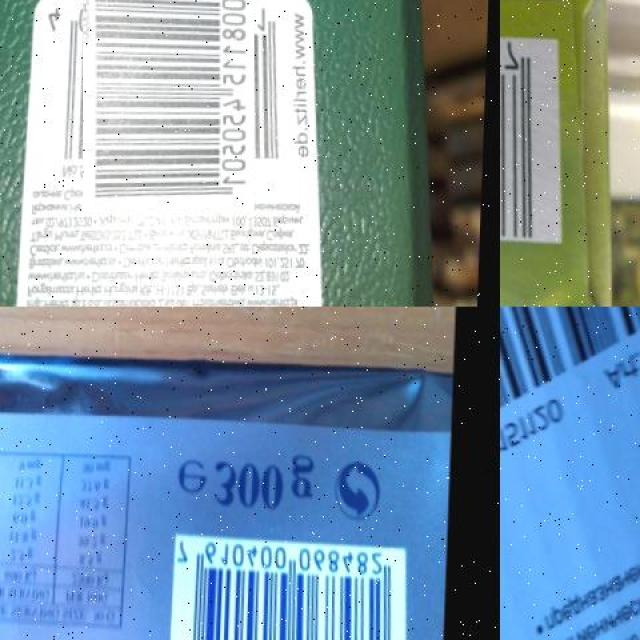Barcode: (63, 0, 275, 191), (171, 540, 420, 640), (500, 307, 640, 445), (500, 24, 573, 243)
